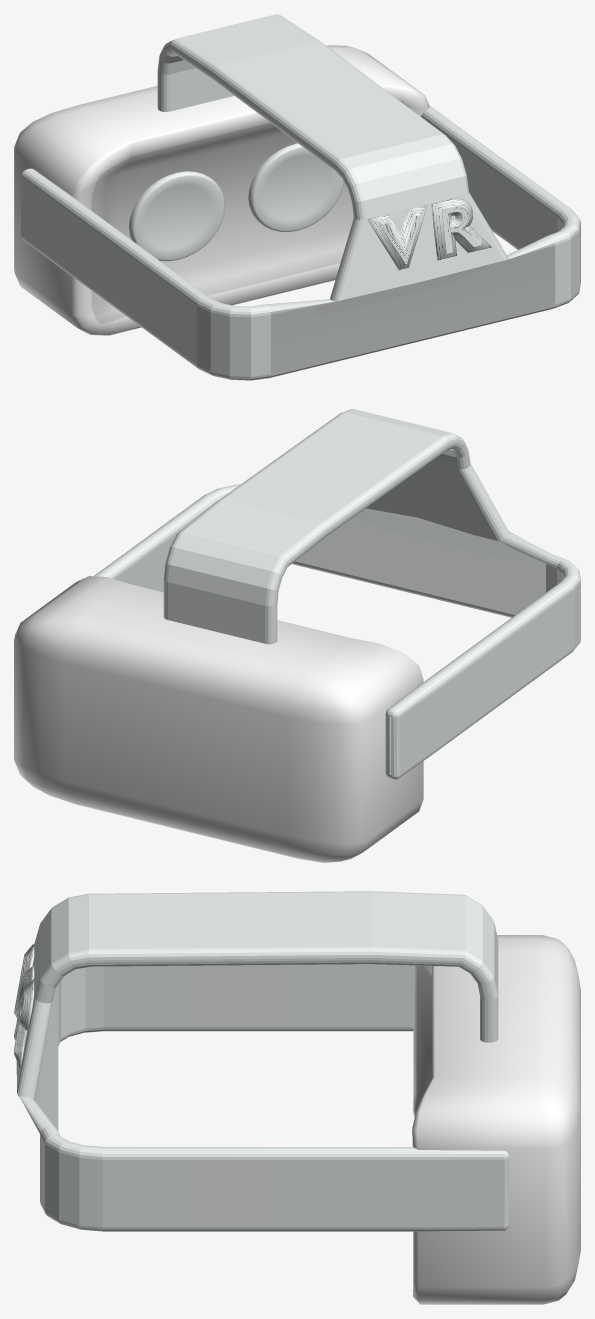
File: item-vr-headset.glb
The picture shows the model from 3 angles, top to bottom: view 1: azimuth 30°, elevation 25°; view 2: azimuth 150°, elevation 25°; view 3: azimuth 270°, elevation 25°; orthographic projection. The views are drawn at different scales.
Bounding box in the file's own units: 0.7104 × 0.4854 × 0.8141.
Materials: 3 (1 with a texture image).
